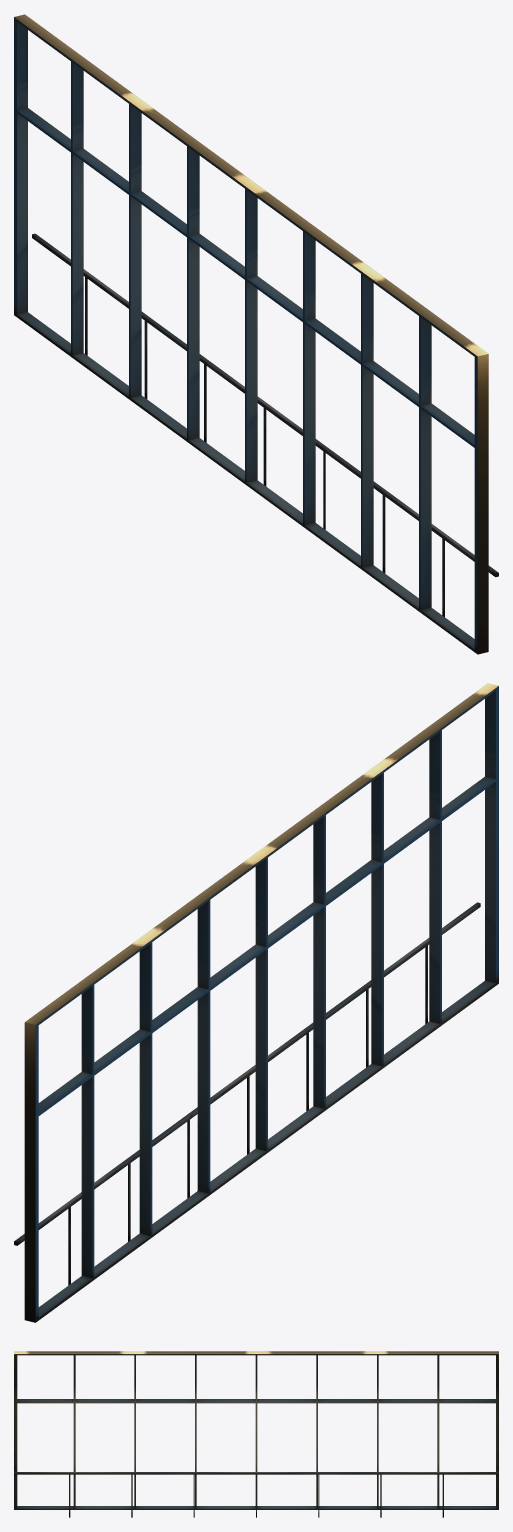
The model's file is CR_Window_Frame.FBX.
3 views of the same model, one above another, from view 1: azimuth 30°, elevation 25°; view 2: azimuth 150°, elevation 25°; view 3: azimuth 270°, elevation 25° (orthographic). The views are drawn at different scales.
Parts seen in each view (by area): view 1: CR_Window_Frame; view 2: CR_Window_Frame; view 3: CR_Window_Frame.
Boxes of the visible parts, x1=… form: CR_Window_Frame: x1=14, y1=14, x2=498, y2=654; CR_Window_Frame: x1=14, y1=683, x2=498, y2=1322; CR_Window_Frame: x1=14, y1=1351, x2=498, y2=1517.
Size of the model in its own units: 22.14 by 300 by 818.
